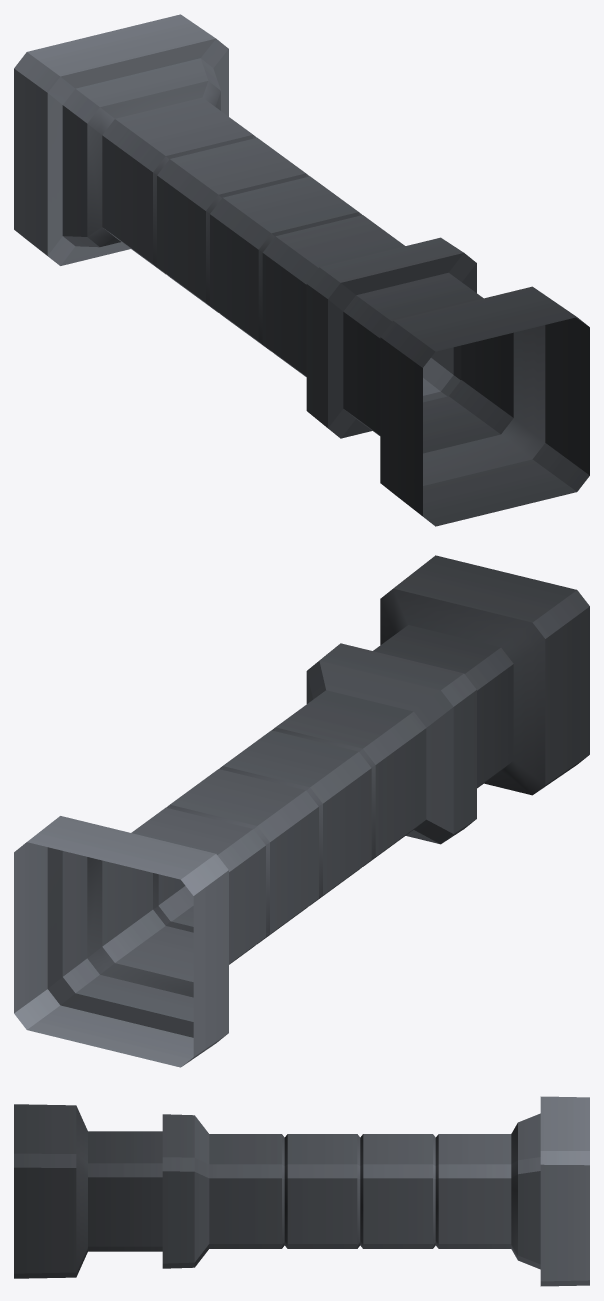
The model's file is Mid Pillar 01.FBX.
3 renders of one model, top to bottom at view 1: azimuth 30°, elevation 25°; view 2: azimuth 150°, elevation 25°; view 3: azimuth 270°, elevation 25°, orthographic. The views are drawn at different scales.
Visible parts, largest first — view 1: Mid Pillar 01; view 2: Mid Pillar 01; view 3: Mid Pillar 01.
Boxes of the visible parts, bbox=[...] form: Mid Pillar 01: bbox=[14, 14, 589, 526]; Mid Pillar 01: bbox=[14, 555, 589, 1067]; Mid Pillar 01: bbox=[14, 1096, 589, 1286].
Bounding box in the file's own units: 77.93 × 77.95 × 300.
